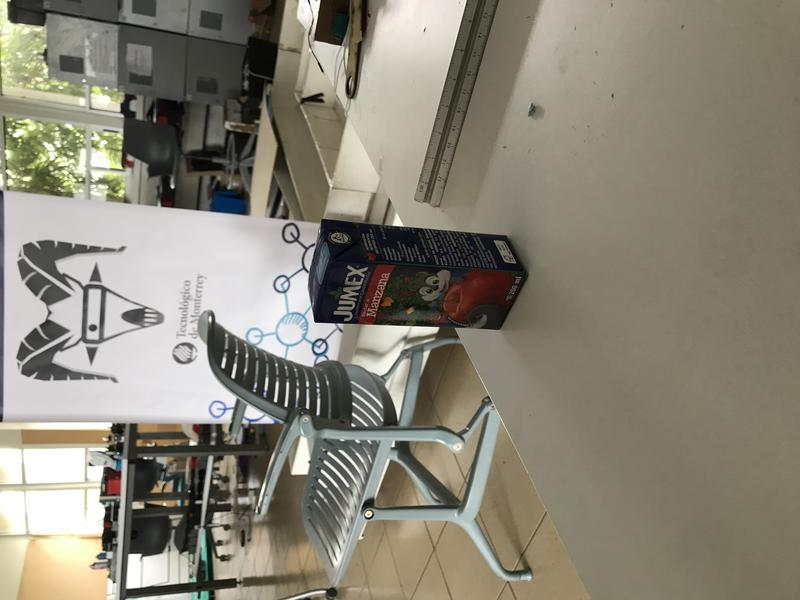jumex_cajita: (308, 219, 528, 331)
